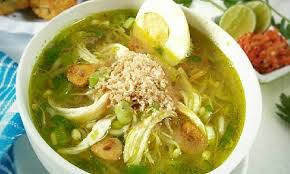Soto: (26, 9, 249, 174)
